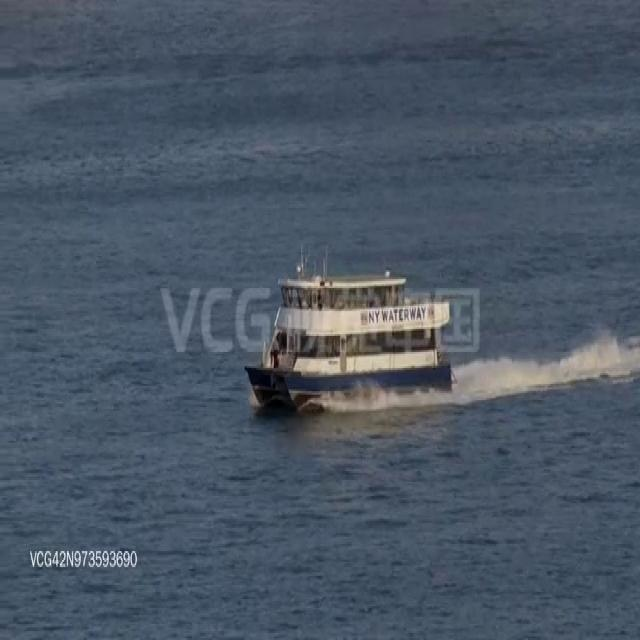passenger ship: (244, 259, 458, 407)
